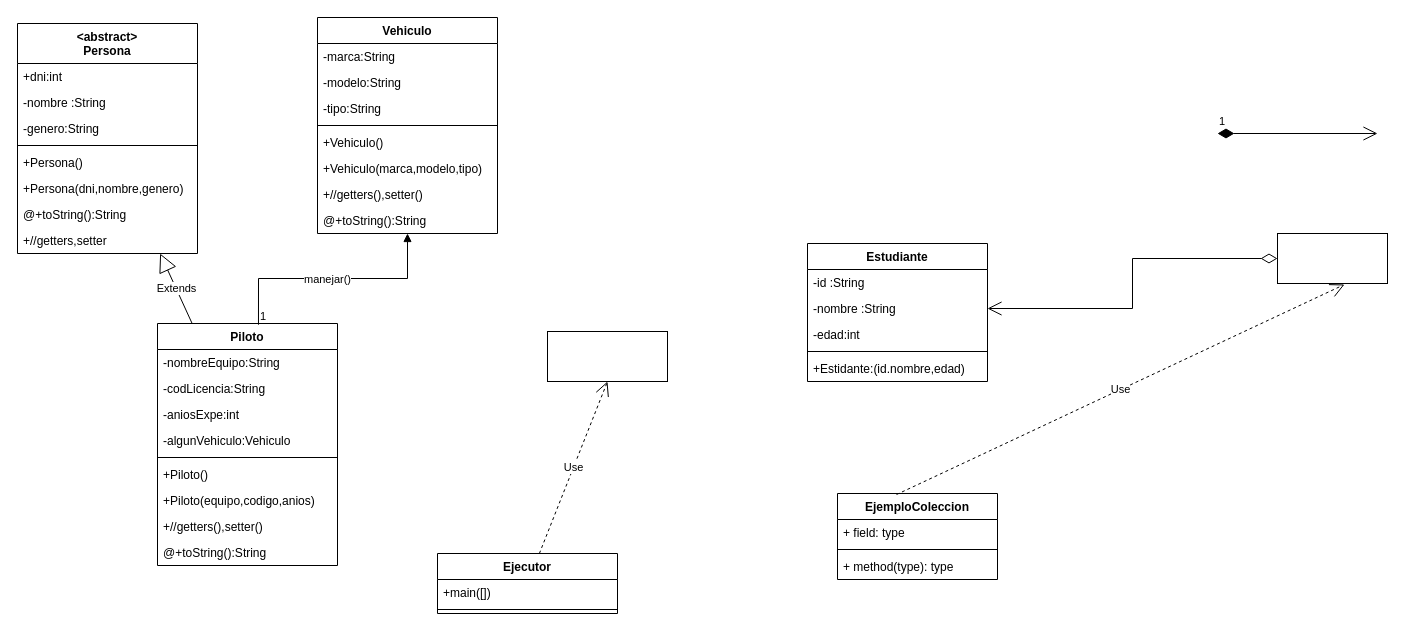
The diagram is 1412 pixels wide and 631 high, and some of its shapes have lost their labels. The centre of each missing label's shape, as x and y in pixels:
EquipoCompetencia: point 607,356
Salon: point 1332,258
